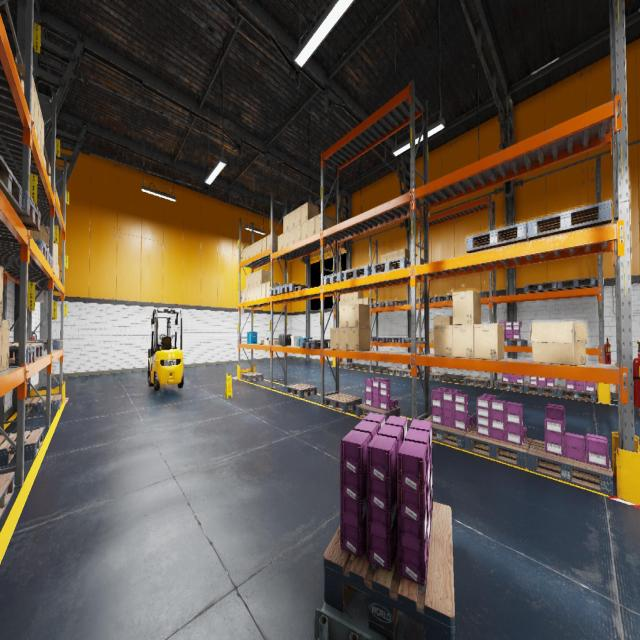box: (530, 322, 588, 365), (15, 62, 35, 120), (474, 324, 504, 359), (452, 290, 481, 324), (453, 324, 474, 358), (433, 324, 452, 356), (348, 304, 370, 327), (349, 327, 370, 351), (1, 319, 9, 372), (30, 226, 49, 246), (315, 213, 334, 233), (301, 202, 319, 223), (266, 281, 281, 297), (339, 328, 348, 350), (330, 328, 339, 350), (339, 305, 348, 327), (266, 234, 278, 250), (258, 270, 270, 285), (0, 265, 3, 319), (17, 70, 24, 93), (308, 216, 315, 237), (301, 220, 308, 240), (35, 87, 38, 132), (38, 101, 41, 143), (294, 206, 300, 227), (46, 161, 51, 184), (41, 114, 44, 152), (294, 224, 300, 243), (399, 248, 409, 259), (0, 319, 2, 371), (289, 210, 294, 230), (283, 230, 288, 248), (289, 228, 294, 245), (278, 234, 283, 250), (442, 316, 452, 324), (353, 291, 363, 299), (34, 121, 38, 140), (284, 214, 288, 233), (261, 283, 266, 298), (363, 297, 373, 304), (429, 330, 434, 343), (262, 236, 266, 252), (258, 238, 262, 254), (249, 272, 253, 288), (434, 316, 441, 325), (416, 257, 423, 266), (392, 250, 398, 260), (246, 245, 250, 259), (258, 284, 262, 298), (253, 286, 257, 300), (253, 272, 257, 286), (386, 252, 392, 261), (249, 287, 253, 300), (242, 289, 246, 302), (254, 242, 257, 256), (246, 274, 249, 288), (381, 254, 386, 262), (250, 244, 253, 257), (246, 288, 249, 301), (38, 133, 40, 151), (243, 248, 246, 260), (32, 111, 34, 128), (53, 256, 55, 273), (55, 244, 57, 260), (41, 145, 43, 160), (56, 262, 58, 277), (258, 339, 264, 344), (44, 154, 46, 168), (45, 244, 49, 251), (349, 293, 353, 300), (340, 294, 344, 301), (358, 298, 363, 303), (273, 340, 279, 344), (344, 294, 348, 300), (267, 336, 274, 339), (353, 300, 358, 304), (57, 244, 58, 263), (55, 258, 56, 274), (266, 340, 270, 344), (349, 300, 353, 304), (344, 300, 348, 304), (340, 301, 344, 305), (56, 190, 58, 197), (58, 264, 59, 278), (54, 243, 55, 257), (264, 339, 266, 344), (59, 200, 60, 208), (55, 185, 56, 192), (339, 302, 340, 305), (58, 195, 58, 203)
forklift: (148, 309, 184, 391)
pallets: (324, 502, 454, 640), (527, 440, 613, 496), (527, 200, 612, 241), (465, 425, 532, 469), (466, 222, 530, 254), (423, 416, 475, 450), (0, 428, 43, 465), (0, 154, 22, 210), (14, 190, 40, 231), (356, 402, 400, 420), (25, 394, 62, 414), (0, 472, 15, 519), (324, 393, 361, 412), (372, 258, 410, 274), (558, 386, 596, 402), (8, 346, 36, 366), (9, 344, 43, 359), (557, 277, 596, 290), (286, 383, 316, 398), (524, 383, 558, 396), (9, 342, 44, 354), (524, 282, 558, 294), (495, 379, 526, 392), (344, 266, 372, 280), (32, 238, 48, 261), (323, 272, 350, 285), (27, 341, 62, 350), (280, 284, 311, 294), (463, 376, 490, 387), (300, 339, 330, 348), (422, 372, 447, 381), (241, 372, 263, 382), (401, 369, 424, 377), (386, 368, 407, 375), (504, 340, 527, 346), (269, 286, 281, 296), (381, 300, 401, 306), (421, 296, 437, 303), (438, 294, 452, 302), (386, 337, 401, 343), (370, 302, 385, 308), (371, 337, 388, 342), (339, 362, 353, 368), (402, 338, 422, 342), (48, 250, 52, 269), (479, 292, 487, 298)
